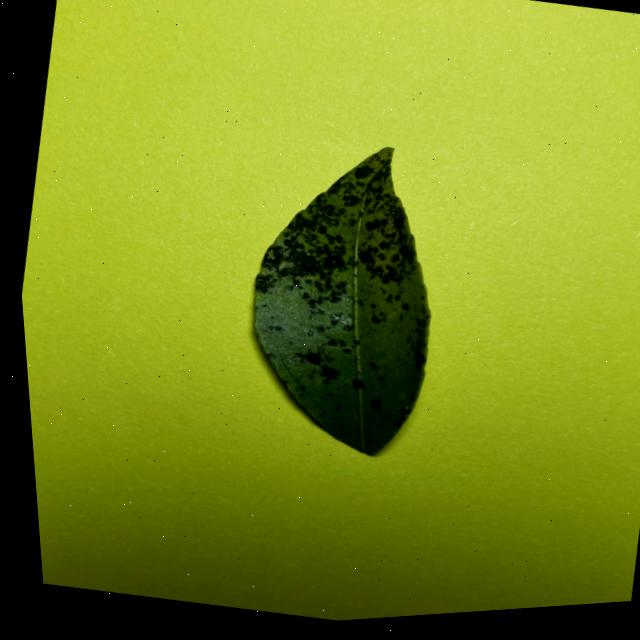sooty_mold: (255, 147, 429, 453)
